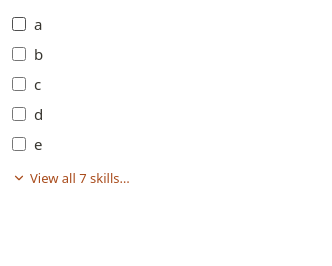
Test: a long pool collapses to five rows behind a View all toggle
This screenshot has width=332, height=266.
Check: the number of checkboxes is 5, box [12,17,26,31]; [12,47,26,61]; [12,77,26,91]; [12,107,26,121]; [12,137,26,151]
Click the button "View all 7 skills…": x=71, y=178 [12,168,130,188]
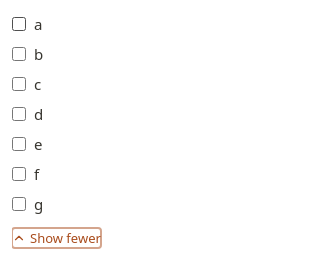
Check: the number of checkboxes is 7
Click the button "Show fewer": x=56, y=238 [12,228,101,248]
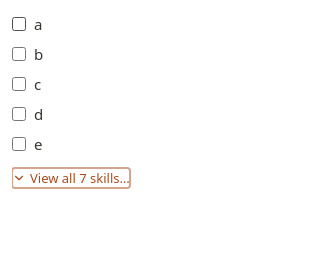
Check: the number of checkboxes is 5, box [12,17,26,31]; [12,47,26,61]; [12,77,26,91]; [12,107,26,121]; [12,137,26,151]
